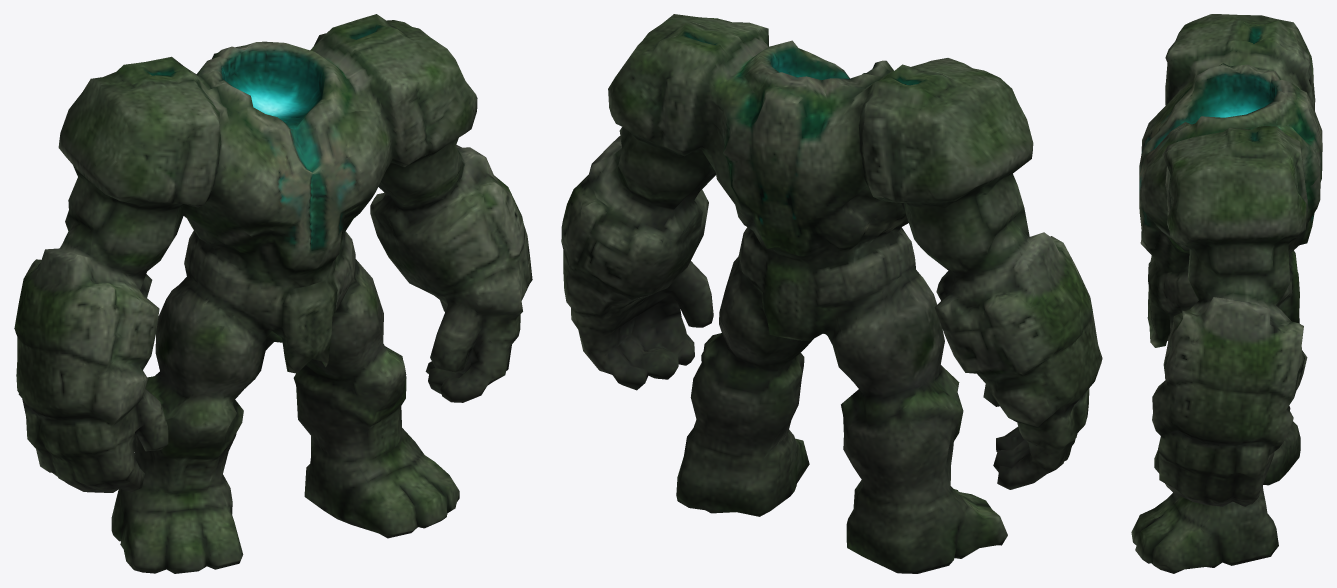
Rendered from vaal_construct_v1.glb.
The picture shows the model from 3 angles, left to right: view 1: azimuth 30°, elevation 25°; view 2: azimuth 150°, elevation 25°; view 3: azimuth 270°, elevation 25°; orthographic projection. The views are drawn at different scales.
Visible parts, largest first — view 1: vaal-construct-m0-4000; view 2: vaal-construct-m0-4000; view 3: vaal-construct-m0-4000.
Boxes of the visible parts, bbox=[...] form: vaal-construct-m0-4000: bbox=[14, 14, 532, 573]; vaal-construct-m0-4000: bbox=[561, 14, 1102, 573]; vaal-construct-m0-4000: bbox=[1131, 14, 1322, 573].
Bounding box in the file's own units: 1 × 0.9107 × 0.3655.
1 material, 1 textured.
